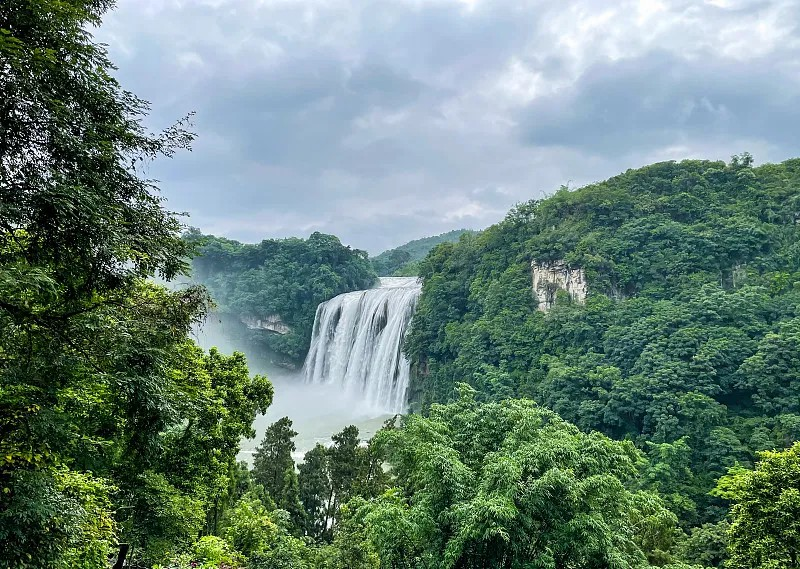Huangguoshu: (305, 277, 423, 412)
